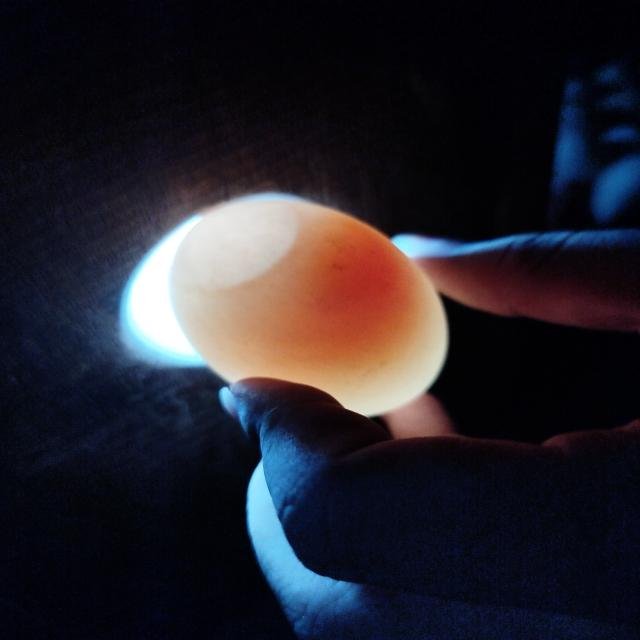Camara de Ar: (170, 200, 298, 289)
